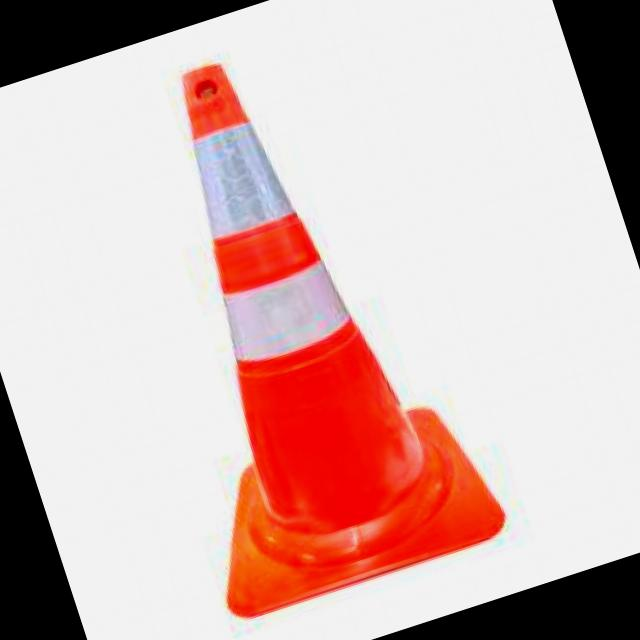cone: (71, 28, 508, 632)
